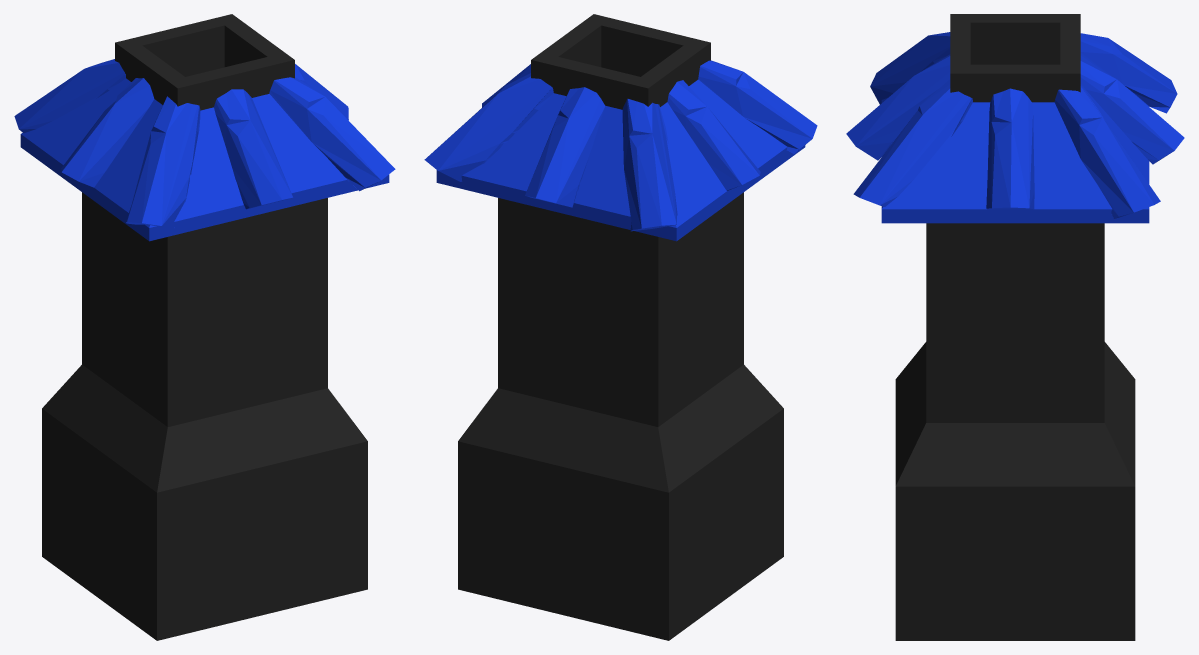
The model's file is standard_rooftop_funnel.FBX.
3 renders of one model, left to right at view 1: azimuth 30°, elevation 25°; view 2: azimuth 150°, elevation 25°; view 3: azimuth 270°, elevation 25°, orthographic. The views are drawn at different scales.
Visible parts, largest first — view 1: standard_rooftop_funnel; view 2: standard_rooftop_funnel; view 3: standard_rooftop_funnel.
Boxes of the visible parts, box(x1,y1,x2,y2) form: standard_rooftop_funnel: box(14, 14, 395, 640); standard_rooftop_funnel: box(424, 14, 817, 640); standard_rooftop_funnel: box(846, 14, 1184, 640).
Size of the model in its own units: 94.81 by 167 by 94.56.
